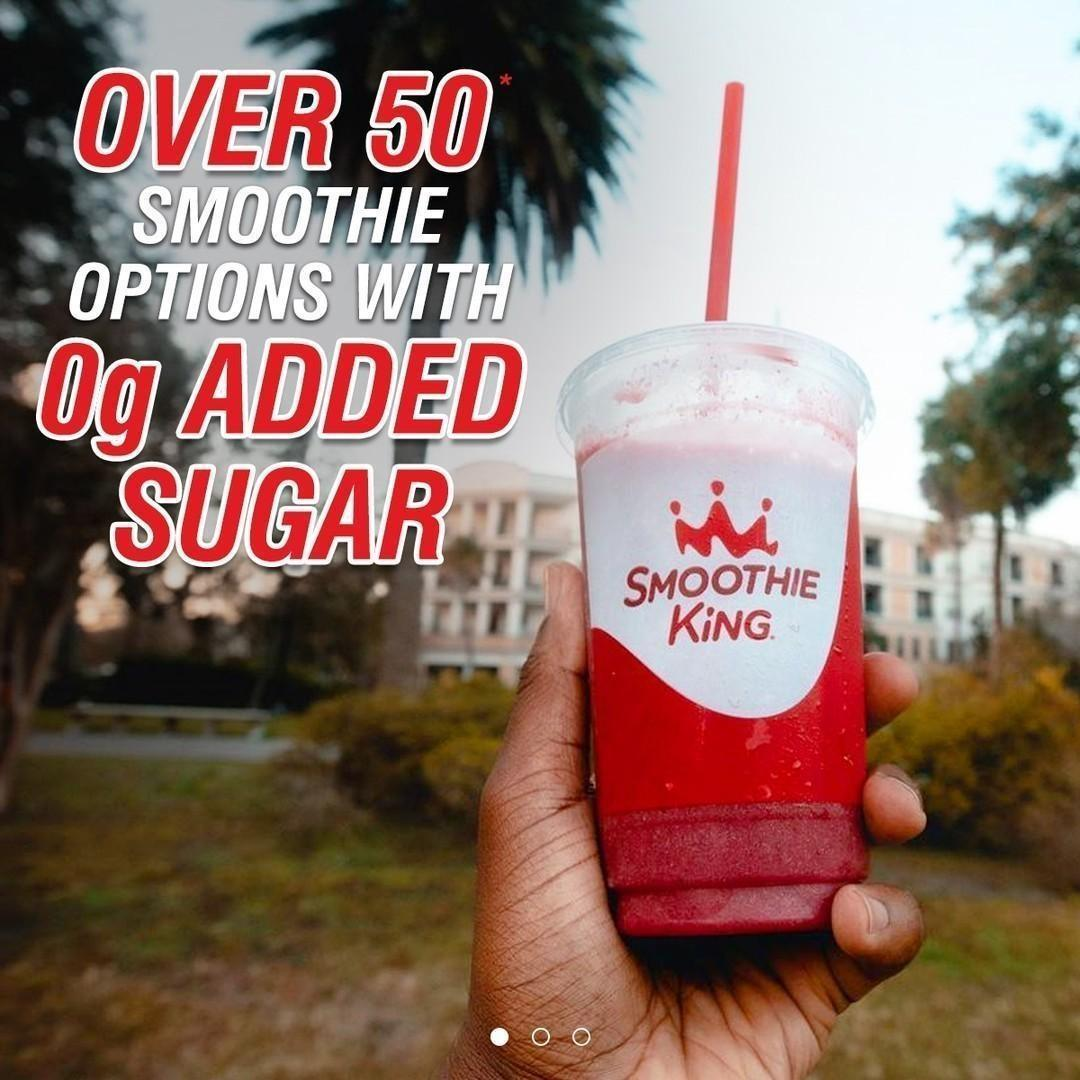cup-disposable: (554, 308, 880, 953)
